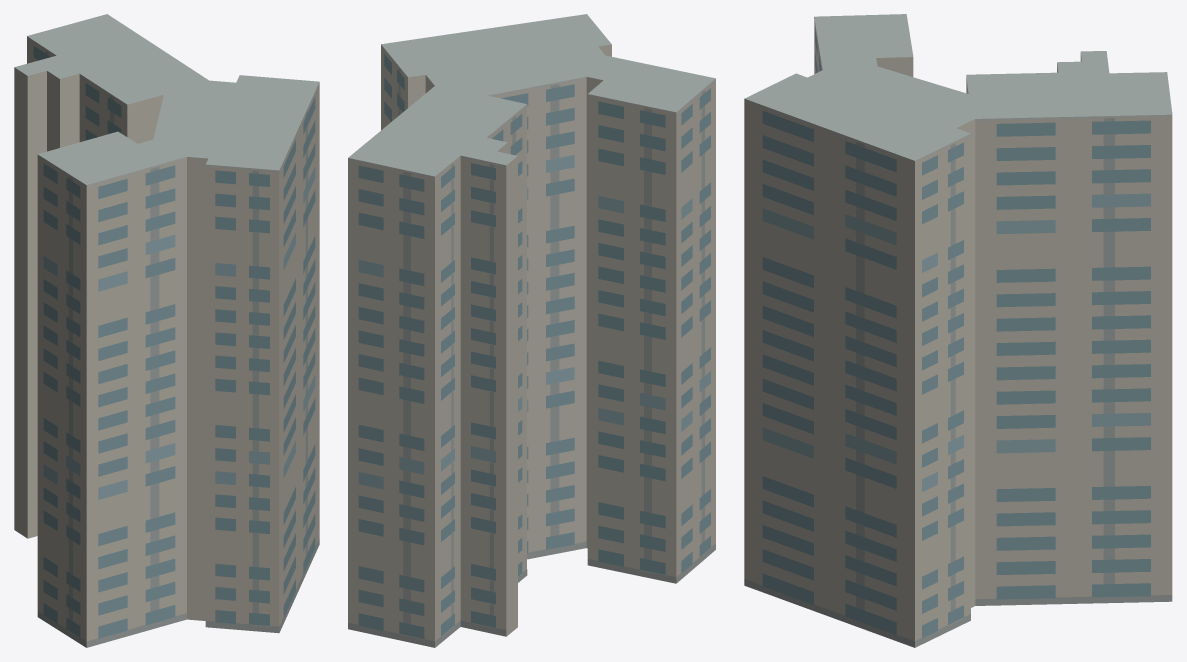
The model's file is residential-3d79aa1a-2988-4b08-ad3e-ca72679107d5.glb.
The picture shows the model from 3 angles, left to right: view 1: azimuth 30°, elevation 25°; view 2: azimuth 150°, elevation 25°; view 3: azimuth 270°, elevation 25°; orthographic projection. The views are drawn at different scales.
Visible parts, largest first — view 1: residential-3d79aa1a-2988-4b08-ad3e-ca72679107d5.tmp; view 2: residential-3d79aa1a-2988-4b08-ad3e-ca72679107d5.tmp; view 3: residential-3d79aa1a-2988-4b08-ad3e-ca72679107d5.tmp.
Part boxes in pixels (x1,y1,x2,y2): residential-3d79aa1a-2988-4b08-ad3e-ca72679107d5.tmp: (14,14,319,647); residential-3d79aa1a-2988-4b08-ad3e-ca72679107d5.tmp: (348,14,715,647); residential-3d79aa1a-2988-4b08-ad3e-ca72679107d5.tmp: (744,14,1172,647).
Size of the model in its own units: 36.88 by 57 by 45.41.
